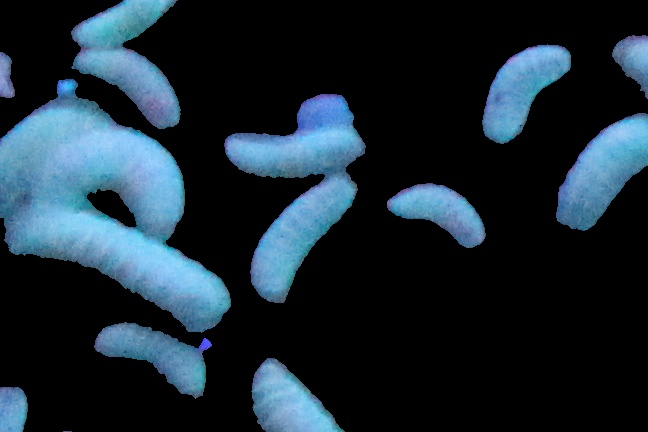larvae: (15, 217, 227, 332), (248, 172, 362, 304), (36, 131, 182, 232), (555, 104, 648, 234), (479, 35, 574, 141), (217, 132, 379, 184), (71, 53, 184, 124), (91, 329, 214, 392), (242, 358, 342, 431), (58, 1, 190, 52), (391, 172, 482, 244)
